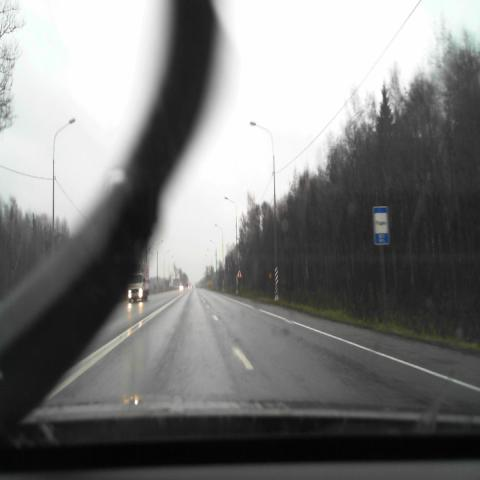7_15: (373, 206, 390, 244)
